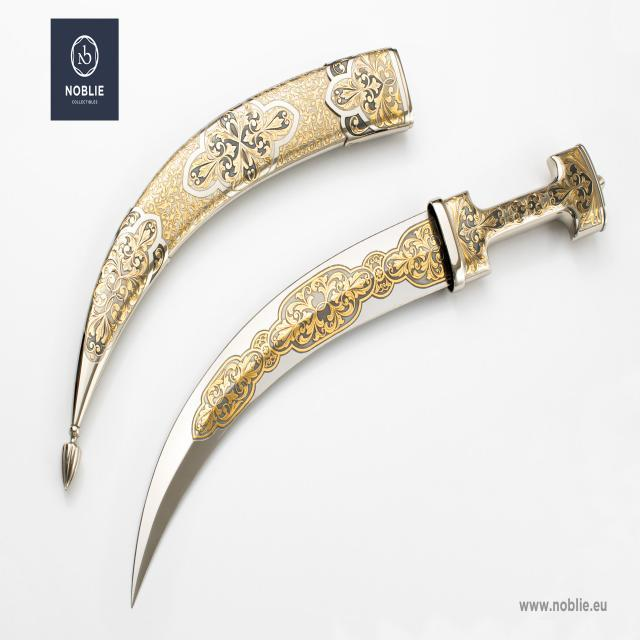short sword: (82, 115, 612, 610)
